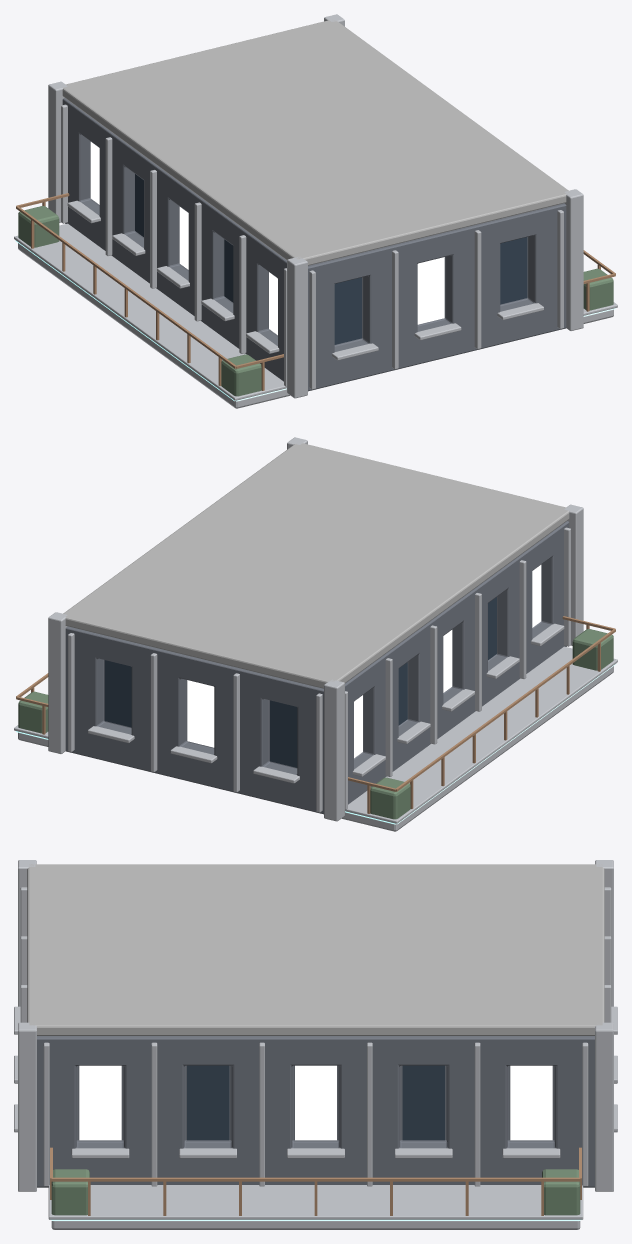
File: transfer_5x5_4x6_office.glb
3 views of the same model, one above another, from view 1: azimuth 30°, elevation 25°; view 2: azimuth 150°, elevation 25°; view 3: azimuth 270°, elevation 25° (orthographic). The views are drawn at different scales.
Visible parts, largest first — view 1: int_ceiling, ext_wall, ext_frames, int_slab_edge, int_columns, ext_panes_dark, ext_deck_plants, ext_panes_lit, ext_deck_rail, int_slab; view 2: int_ceiling, ext_wall, ext_frames, int_slab_edge, int_columns, ext_panes_dark, ext_deck_plants, ext_panes_lit, ext_deck_rail, int_slab; view 3: int_ceiling, ext_wall, int_slab_edge, ext_frames, ext_panes_lit, int_columns, ext_panes_dark, int_slab, ext_deck_rail, ext_deck_plants, ext_deck_glow.
Part boxes in pixels (x1,y1,x2,y2): int_ceiling: [62, 20, 569, 265]; ext_wall: [62, 98, 566, 391]; ext_frames: [61, 104, 563, 389]; int_slab_edge: [14, 223, 617, 400]; int_columns: [48, 14, 583, 398]; ext_panes_dark: [135, 174, 527, 344]; ext_deck_plants: [18, 206, 613, 396]; ext_panes_lit: [90, 142, 444, 335]; ext_deck_rail: [16, 193, 615, 390]; int_slab: [18, 243, 613, 408]; int_ceiling: [63, 443, 569, 688]; ext_wall: [65, 521, 569, 814]; ext_frames: [68, 527, 570, 812]; int_slab_edge: [14, 646, 617, 823]; int_columns: [48, 437, 583, 821]; ext_panes_dark: [104, 597, 496, 767]; ext_deck_plants: [18, 629, 613, 819]; ext_panes_lit: [187, 565, 541, 758]; ext_deck_rail: [16, 616, 615, 813]; int_slab: [18, 666, 613, 831]; int_ceiling: [27, 864, 604, 1035]; ext_wall: [37, 1036, 594, 1187]; int_slab_edge: [48, 1185, 583, 1219]; ext_frames: [14, 887, 617, 1186]; ext_panes_lit: [79, 1065, 552, 1140]; int_columns: [18, 860, 613, 1191]; ext_panes_dark: [187, 1065, 444, 1140]; int_slab: [51, 1221, 580, 1229]; ext_deck_rail: [50, 1147, 581, 1215]; ext_deck_plants: [51, 1169, 580, 1215]; ext_deck_glow: [50, 1219, 581, 1220].
Size of the model in its own units: 5.56 by 2 by 6.28.
